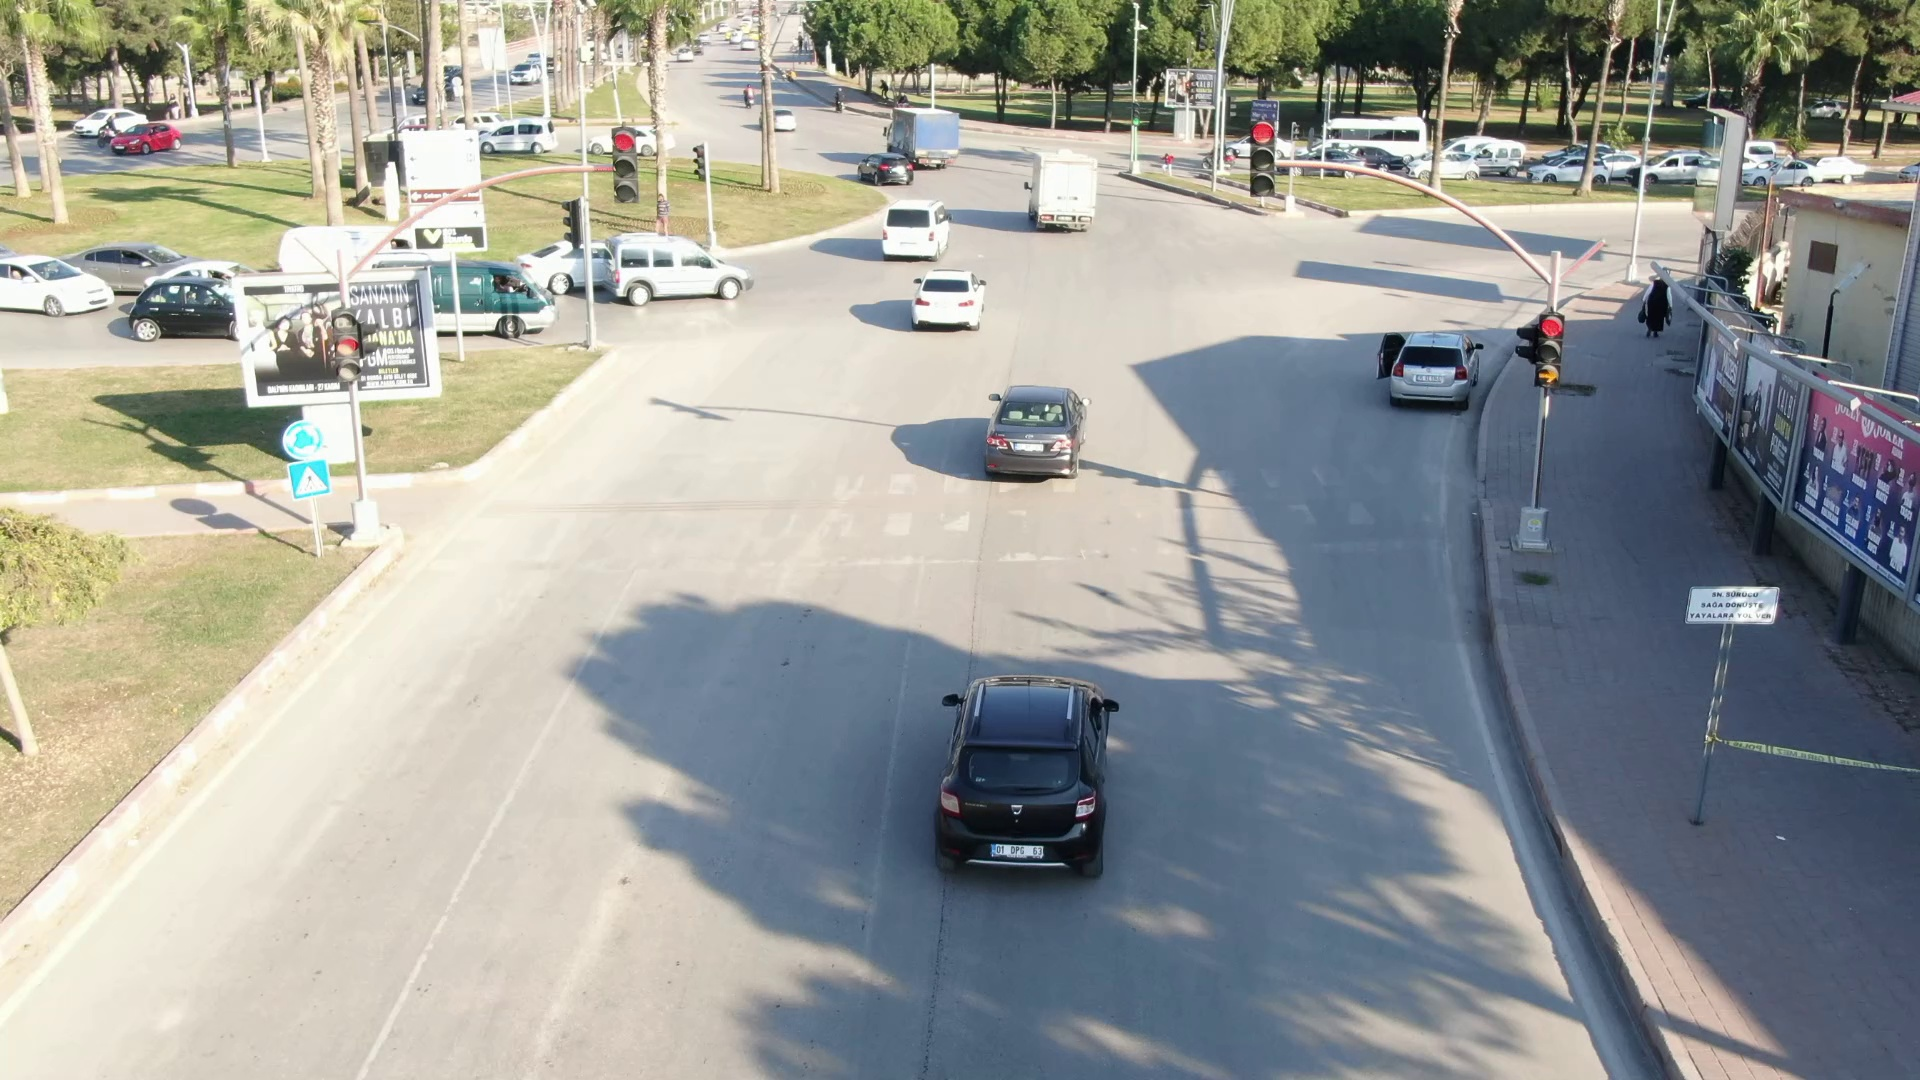car: (906, 638, 1143, 892), (600, 223, 772, 320), (967, 370, 1113, 479), (1362, 304, 1482, 413), (1015, 141, 1107, 235), (872, 190, 965, 268), (903, 265, 1003, 337), (1520, 149, 1621, 191), (845, 145, 921, 189)
person: (1633, 267, 1683, 337)
